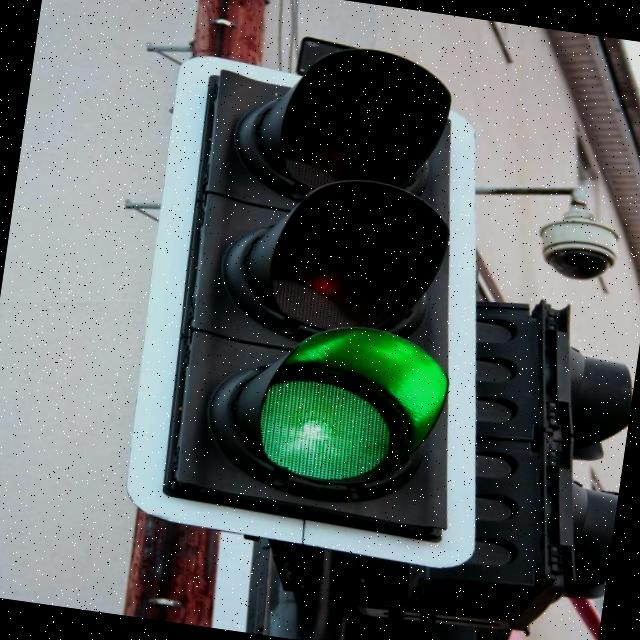Zielone swiatlo: (169, 35, 501, 535)
